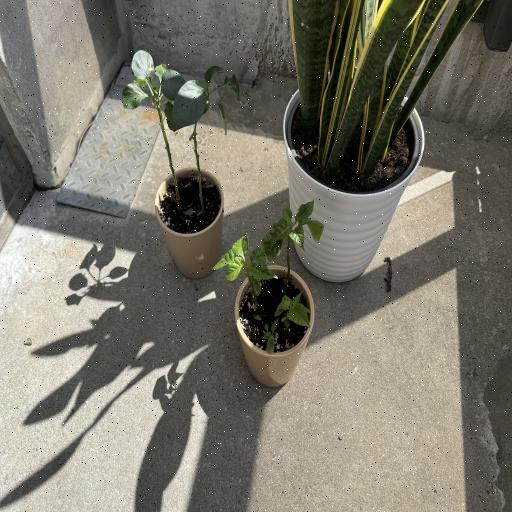Plant Pot: (282, 85, 428, 280), (232, 268, 315, 388), (155, 165, 225, 274)
